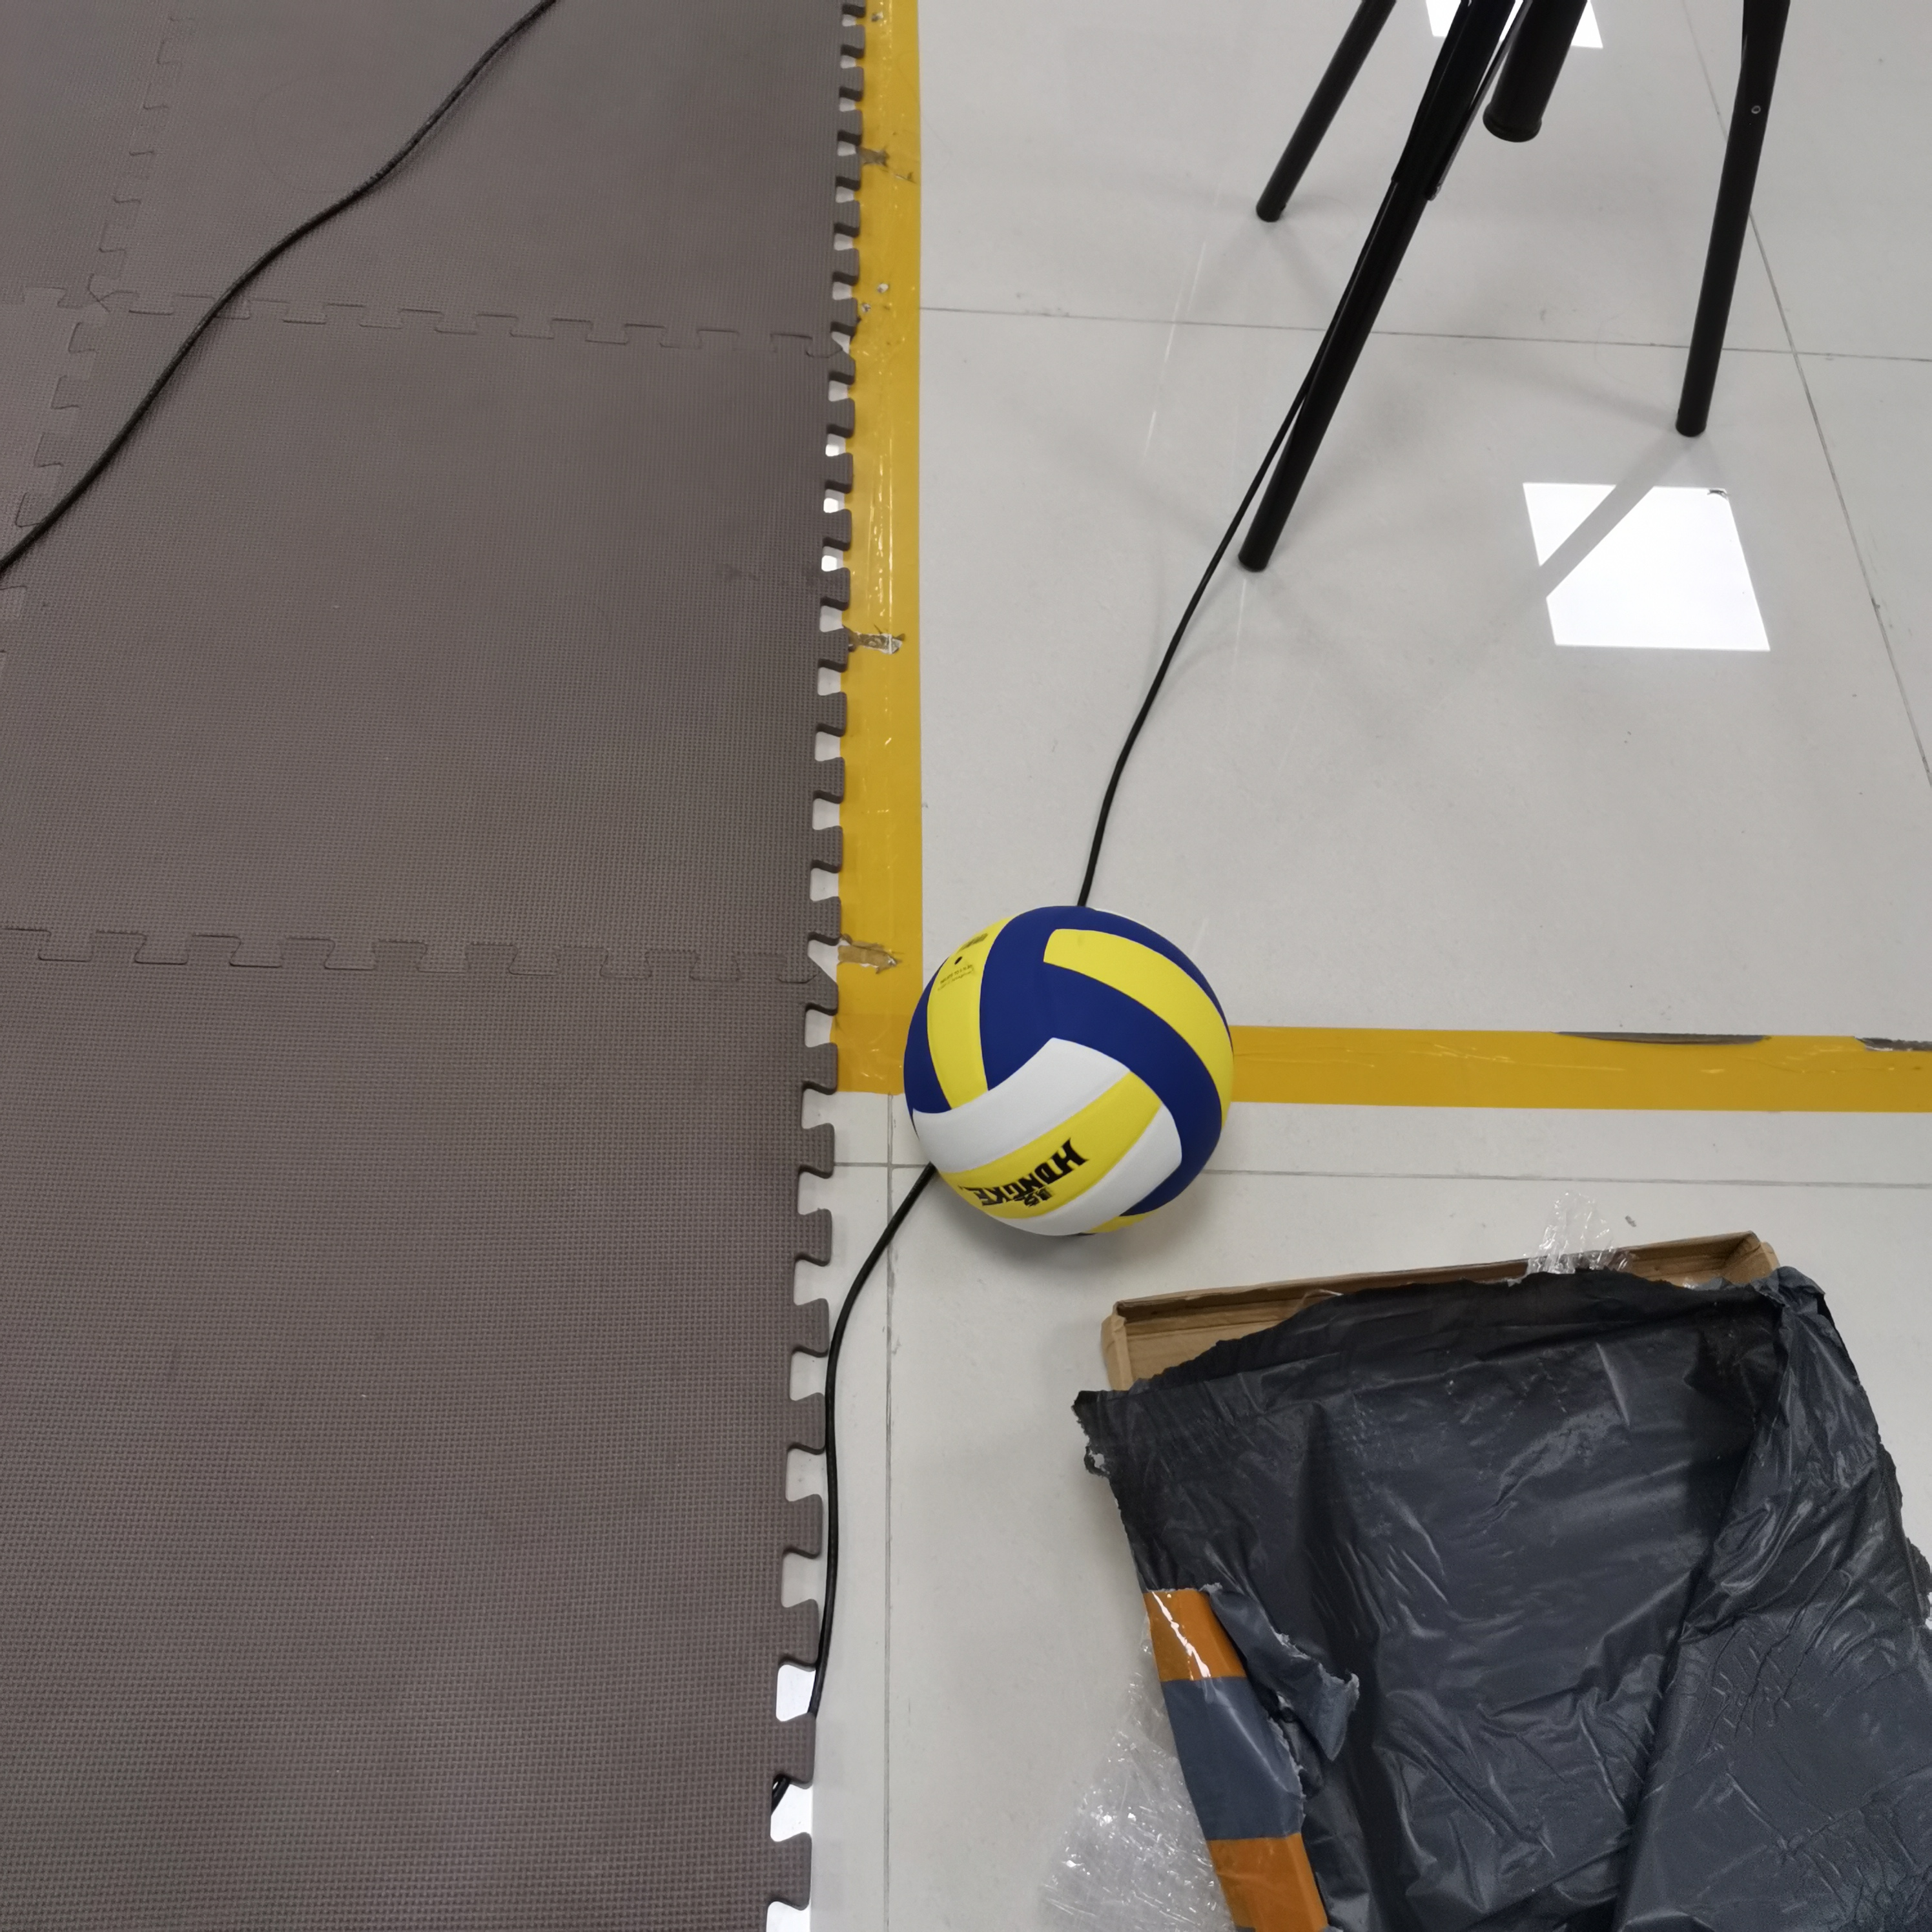volleyball: (897, 890, 1238, 1242)
